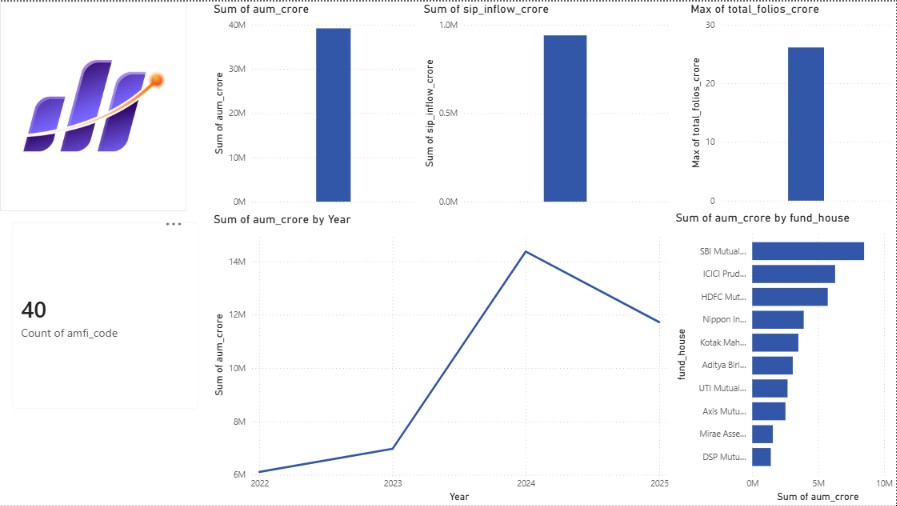

This screenshot's page, from the dashboard's own definition file:
{"tool":"powerbi","page":{"name":"Industry Overview","canvas":[1280,720],"ordinal":0},"visuals":[{"type":"clusteredColumnChart","fields":{"Y":["Sum(clean_aum_by_fund_house.aum_crore)"]},"box":[300,0,300,300],"z":0},{"type":"clusteredColumnChart","fields":{"Y":["Sum(clean_monthly_sip_inflows.sip_inflow_crore)"]},"box":[600,0,360,300],"z":1000},{"type":"clusteredColumnChart","fields":{"Y":["Max(clean_industry_folio_count.total_folios_crore)"]},"box":[981.4,0,298.6,298.6],"z":2000},{"type":"cardVisual","fields":{"Data":["Count(clean_fund.amfi_code)"]},"box":[0,298.6,300,300],"z":3000},{"type":"lineChart","fields":{"Category":["clean_aum_by_fund_house.date.Variation.Date Hierarchy.Year","clean_aum_by_fund_house.date.Variation.Date Hierarchy.Quarter","clean_aum_by_fund_house.date.Variation.Date Hierarchy.Month","clean_aum_by_fund_house.date.Variation.Date Hierarchy.Day"],"Y":["Sum(clean_aum_by_fund_house.aum_crore)"]},"box":[300,300,660,420],"z":3001},{"type":"clusteredBarChart","fields":{"Category":["clean_aum_by_fund_house.fund_house"],"Y":["Sum(clean_aum_by_fund_house.aum_crore)"]},"box":[960,298.6,320,421.4],"z":3002},{"type":"image","box":[0,0,265.7,300],"z":3003}]}

Visuals, with their boxes in screenshot pixels (x1, y1, x2, y2), scaled from the page's 1280x720 canvas onto the 897x506 screenshot:
clusteredColumnChart - Sum(clean_aum_by_fund_house.aum_crore): detection(210, 0, 420, 211)
clusteredColumnChart - Sum(clean_monthly_sip_inflows.sip_inflow_crore): detection(420, 0, 673, 211)
clusteredColumnChart - Max(clean_industry_folio_count.total_folios_crore): detection(688, 0, 896, 210)
cardVisual - Count(clean_fund.amfi_code): detection(0, 210, 210, 421)
lineChart - clean_aum_by_fund_house.date.Variation.Date Hierarchy.Year x clean_aum_by_fund_house.date.Variation.Date Hierarchy.Quarter: detection(210, 211, 673, 505)
clusteredBarChart - clean_aum_by_fund_house.fund_house x Sum(clean_aum_by_fund_house.aum_crore): detection(673, 210, 896, 505)
image: detection(0, 0, 186, 211)
